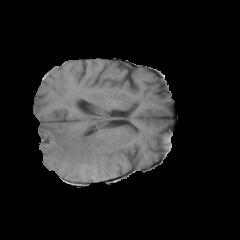glioma: (38, 123, 124, 181)
